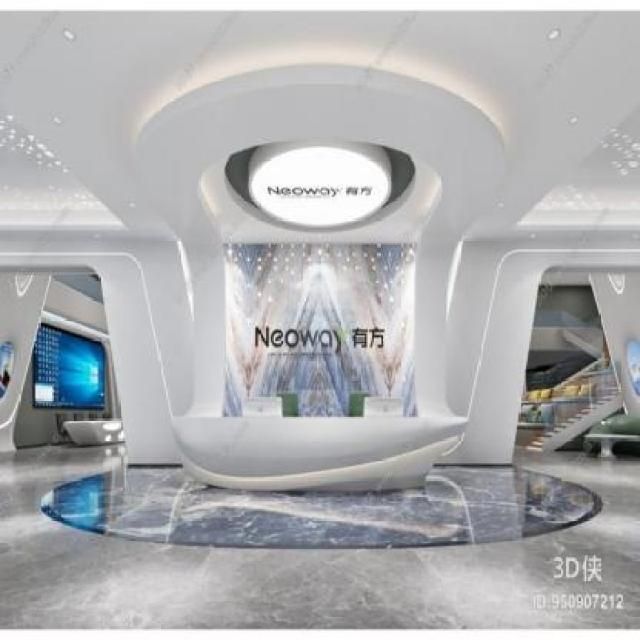frontdesk: (164, 398, 470, 496)
